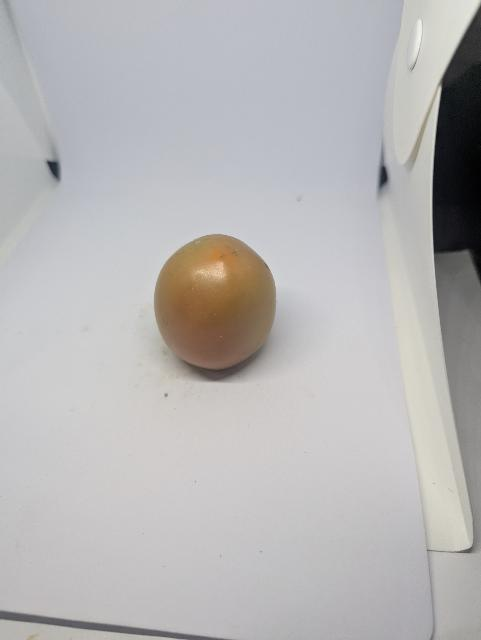turning: (150, 234, 286, 377)
